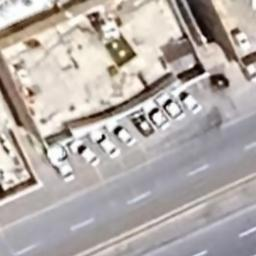SUV: (144, 100, 170, 132), (154, 92, 181, 120)
pickup: (129, 112, 153, 138)
sedan: (108, 118, 136, 147), (94, 128, 120, 158), (179, 88, 205, 117), (74, 139, 100, 167)
